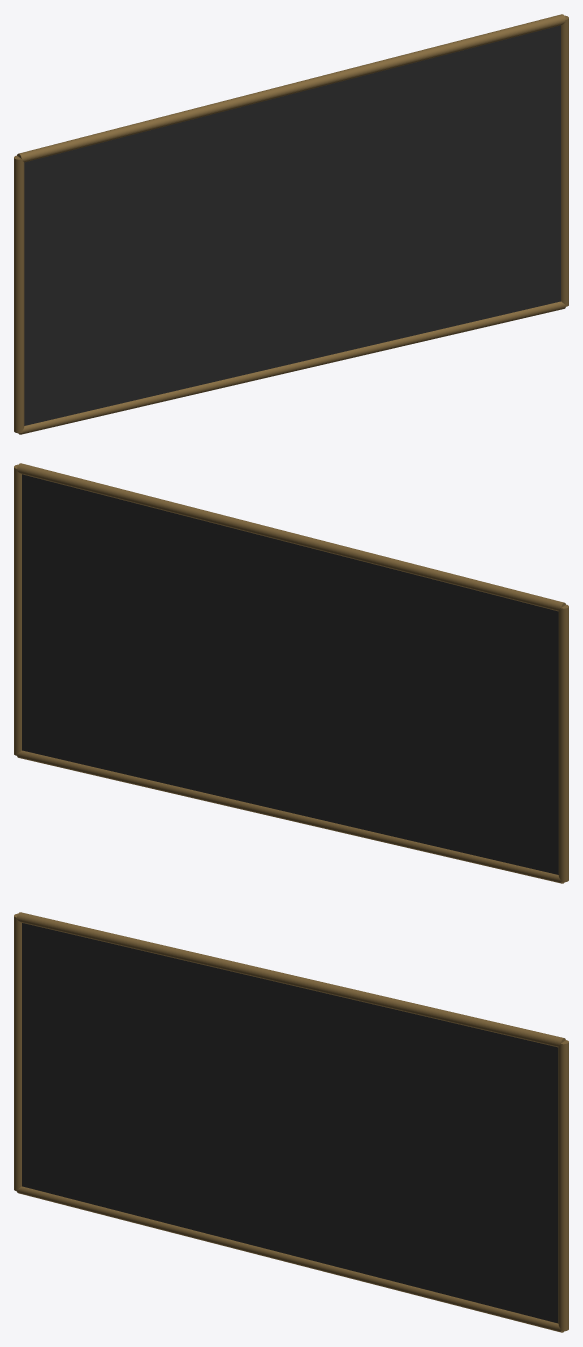
The model's file is blackboard_sample.fbx.
3 renders of one model, top to bottom at view 1: azimuth 30°, elevation 25°; view 2: azimuth 150°, elevation 25°; view 3: azimuth 330°, elevation 25°, orthographic.
Visible parts, largest first — view 1: Cylinder.002; view 2: Cylinder.002; view 3: Cylinder.002.
Part boxes in pixels (bbox=[...]): Cylinder.002: bbox=[14, 14, 568, 434]; Cylinder.002: bbox=[14, 463, 568, 883]; Cylinder.002: bbox=[14, 912, 568, 1332].
Size of the model in its own units: 1211 by 615 by 20.
